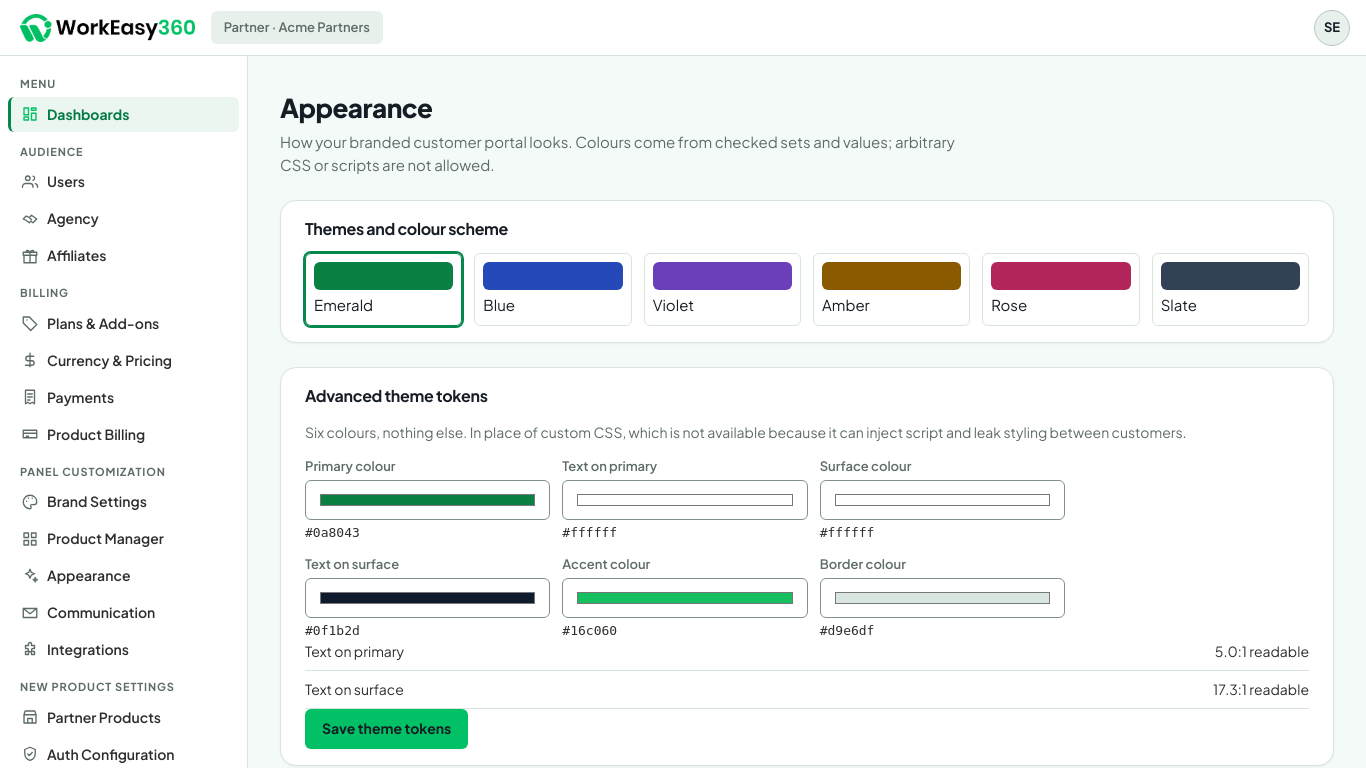
Test: appearance › refuses to save colours whose text would be unreadable
Type "#0b8244" into the colour field labelled "Text on primary" at [685, 500], box [562,480,808,520]
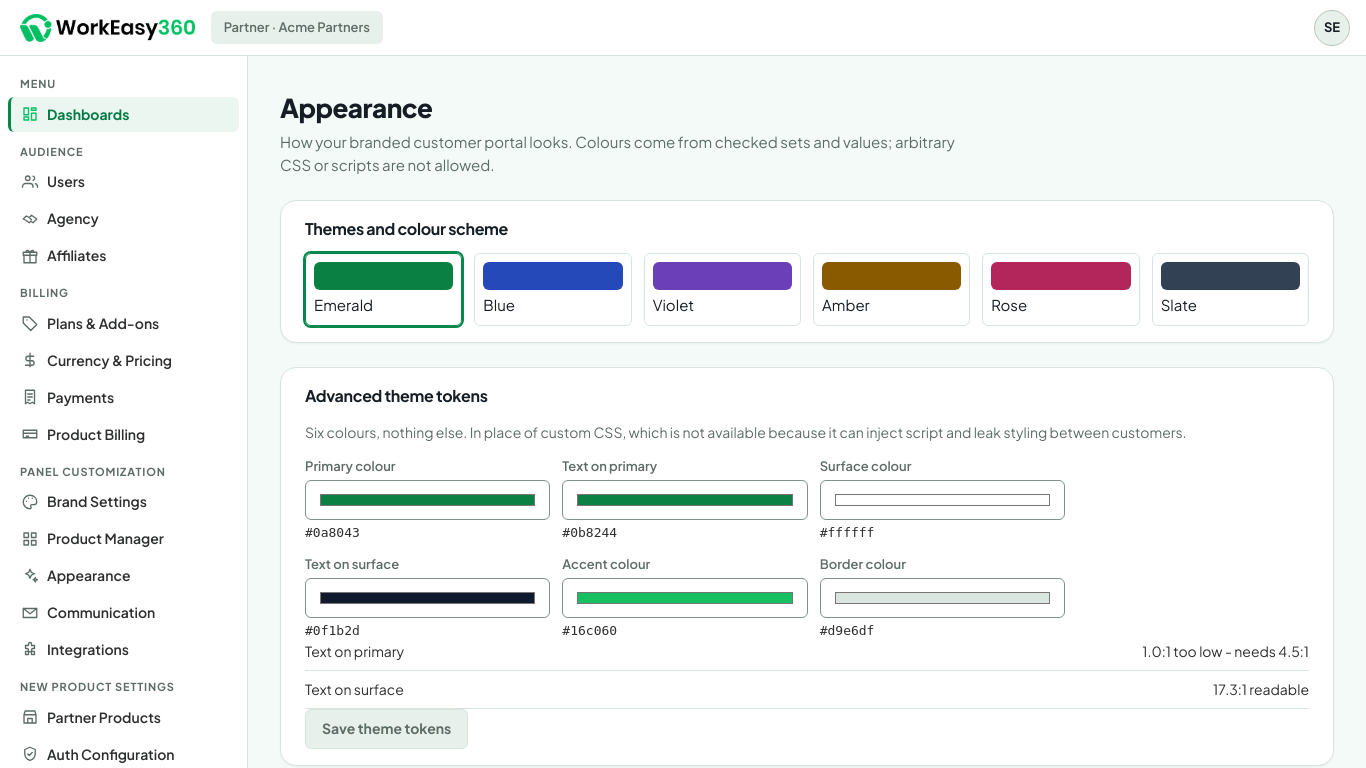
Expected: the text "1.0:1 too low - needs 4.5:1" is shown, [1142,640,1309,662]
Expected: the button "Save theme tokens" is disabled, [305,708,468,748]
